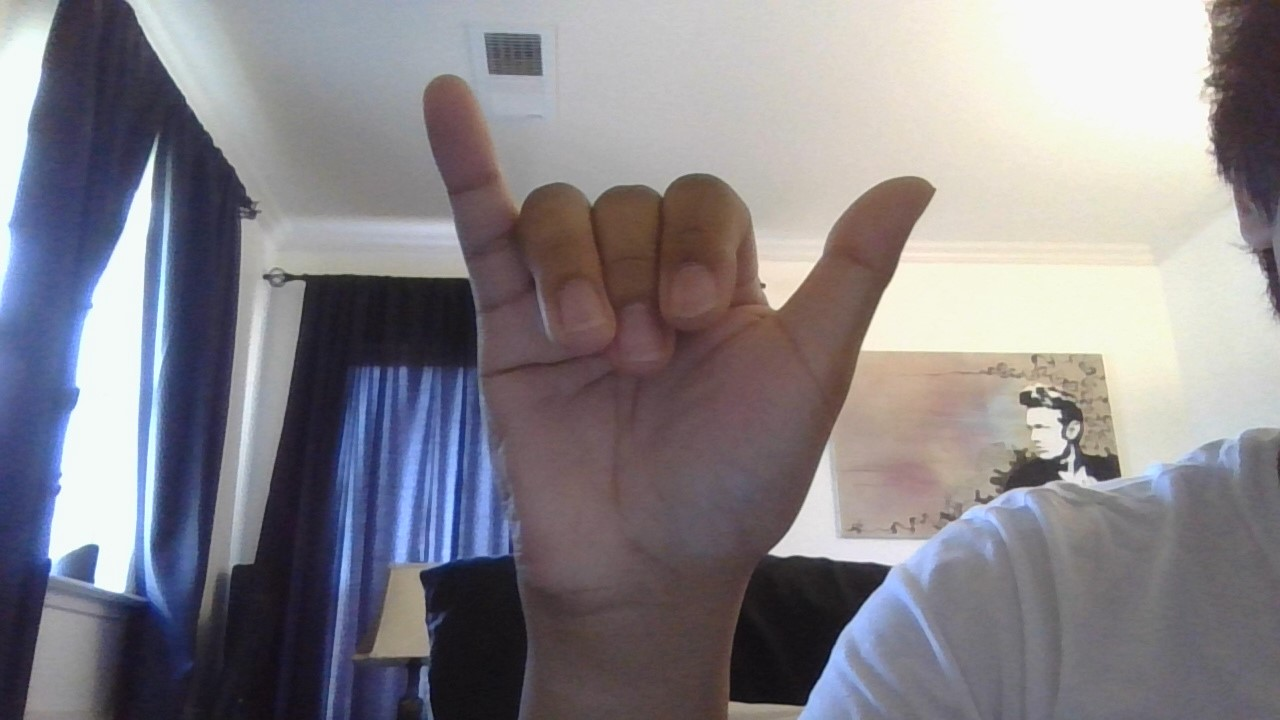y: (381, 57, 952, 593)
